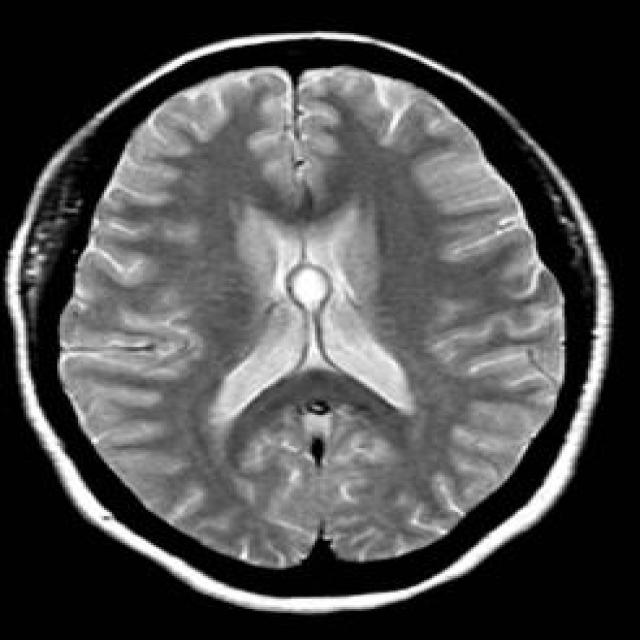tumor: (172, 402, 348, 519)
